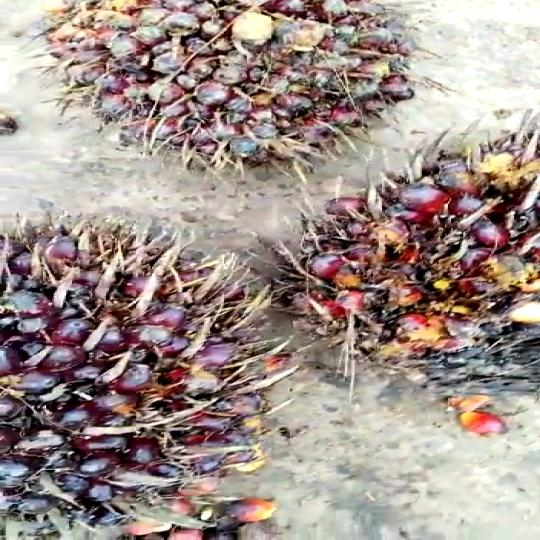masak: (0, 203, 284, 519), (263, 126, 540, 418), (47, 0, 425, 196)
